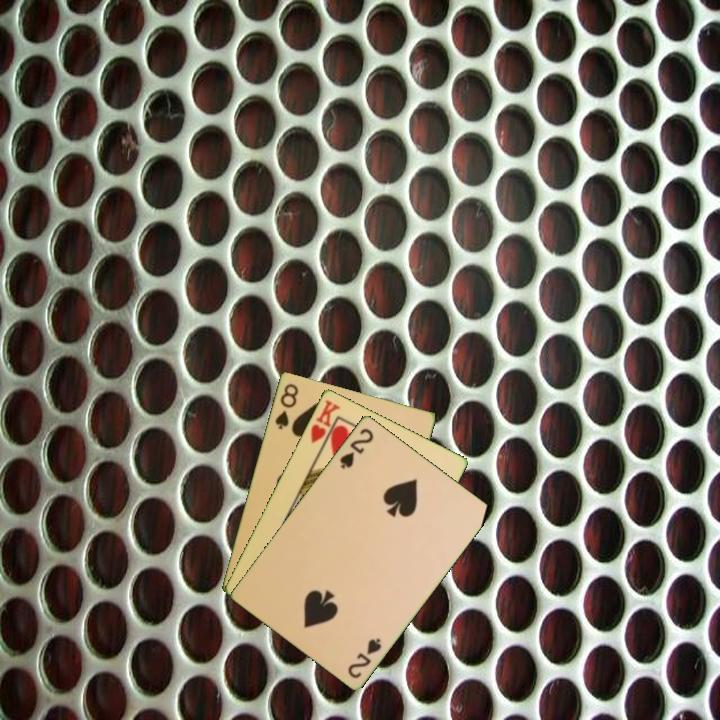2s: (336, 424, 376, 472), (344, 634, 384, 681)
8s: (271, 380, 301, 432)
Kh: (307, 396, 343, 453)
